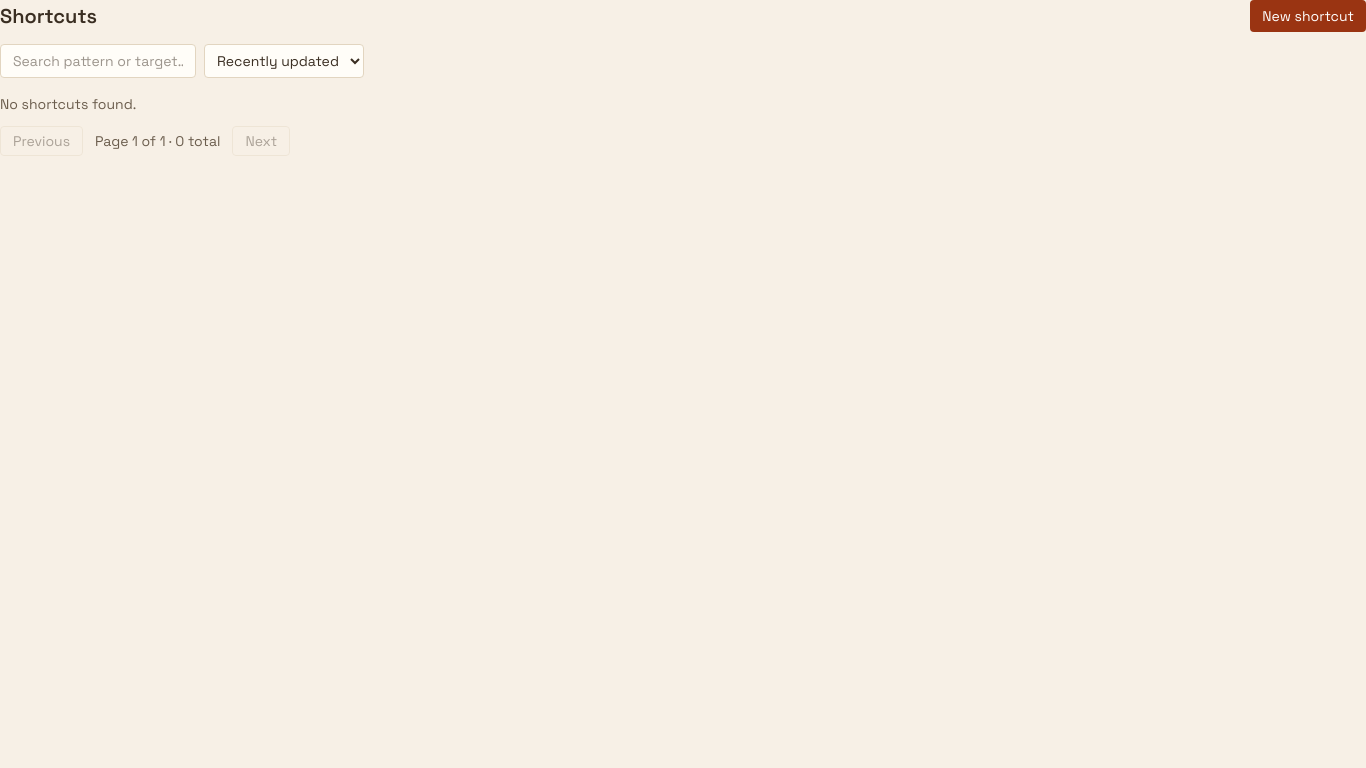
Test: ShortcutsPage › creates a shortcut through the drawer
Check: the text "No shortcuts found." is shown, box [0,95,136,113]
Click the button "New shortcut" at x=1308, y=16, box [1250,0,1365,32]
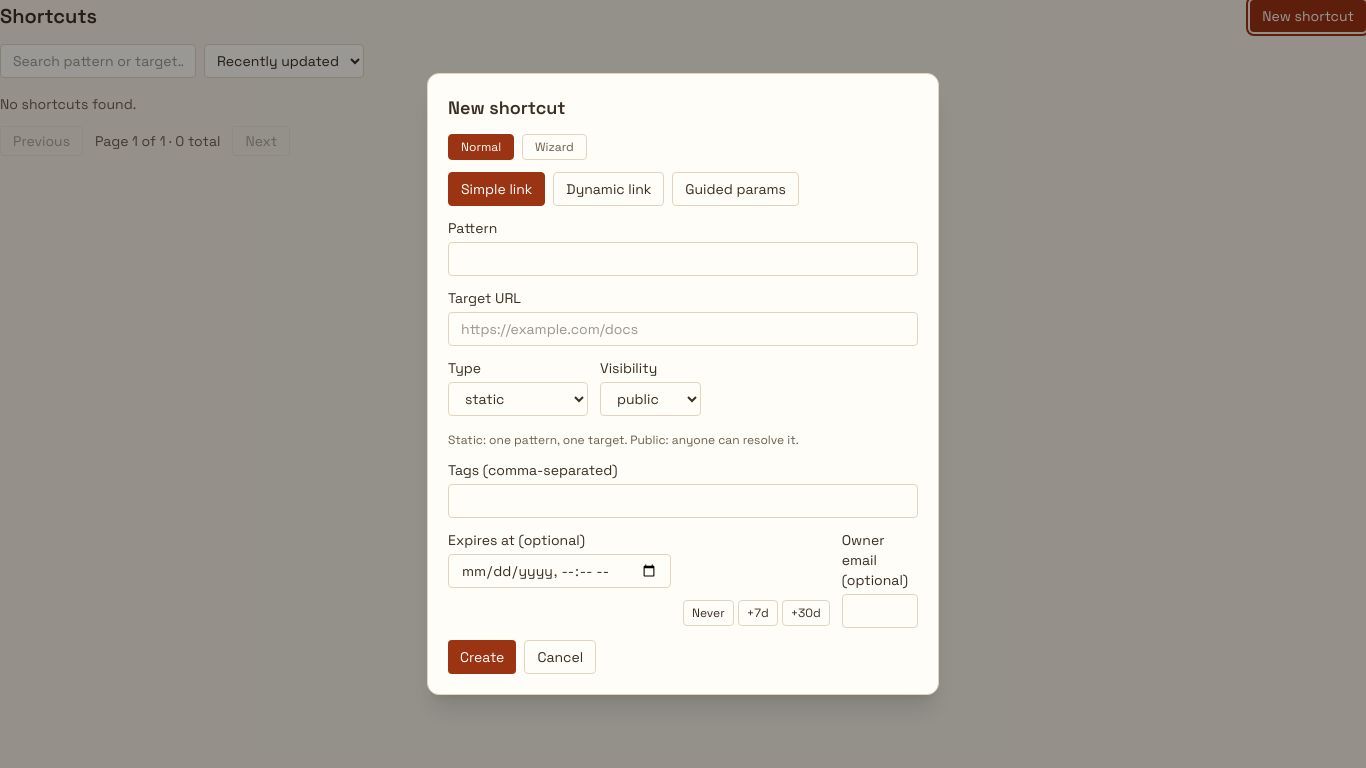
Type "brand-new" into the field labelled "Pattern" at x=683, y=259, box [448,242,918,276]
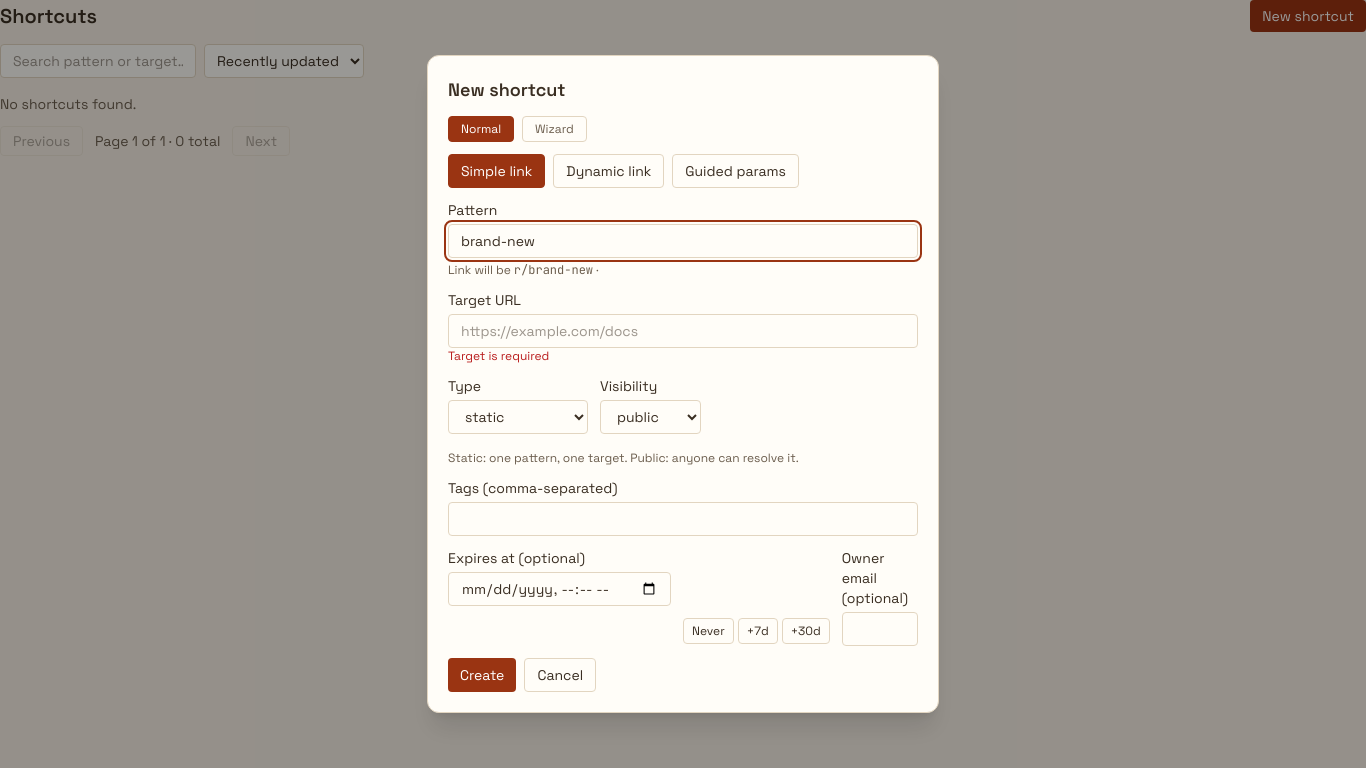
Type "https://x.example/new" into the field labelled "Target URL Target is required" at x=683, y=331, box [448,314,918,348]
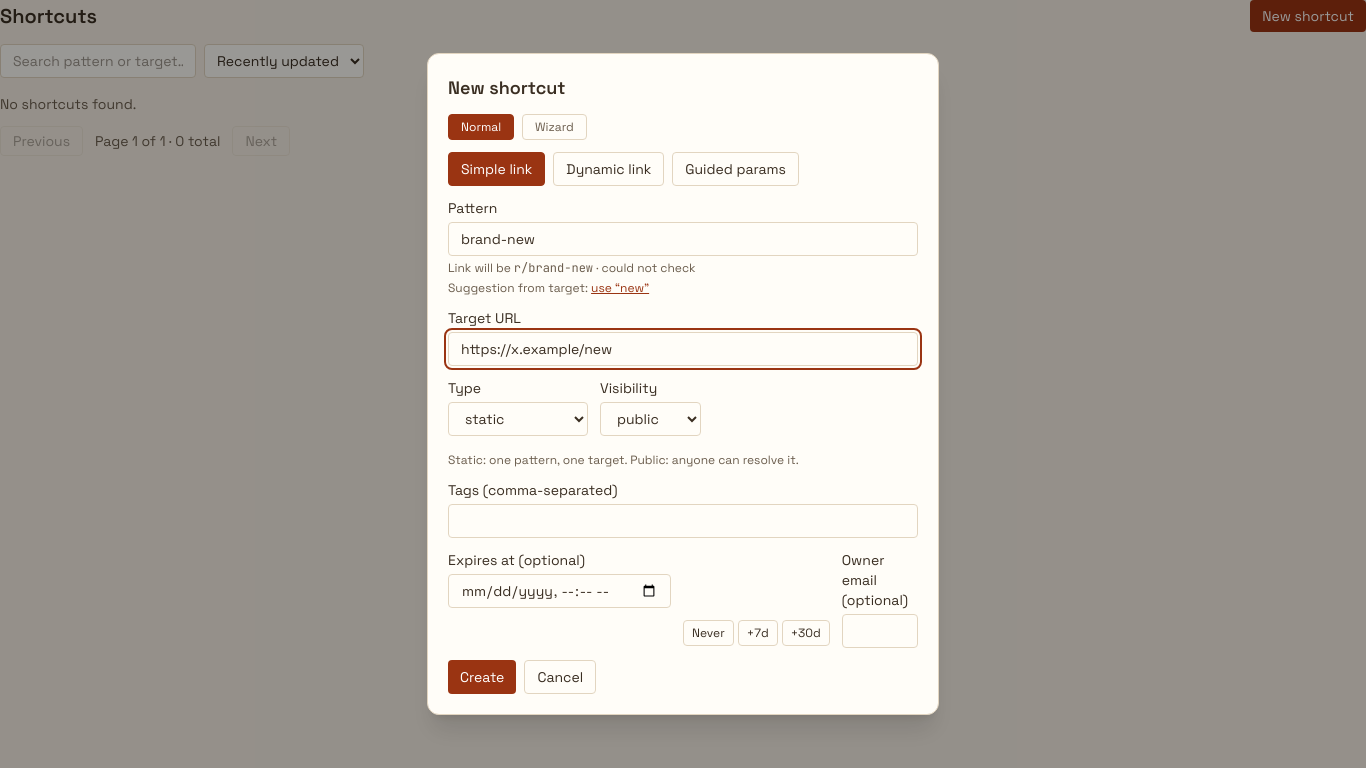
Click the button "Create" at x=482, y=677, box [448,660,516,694]
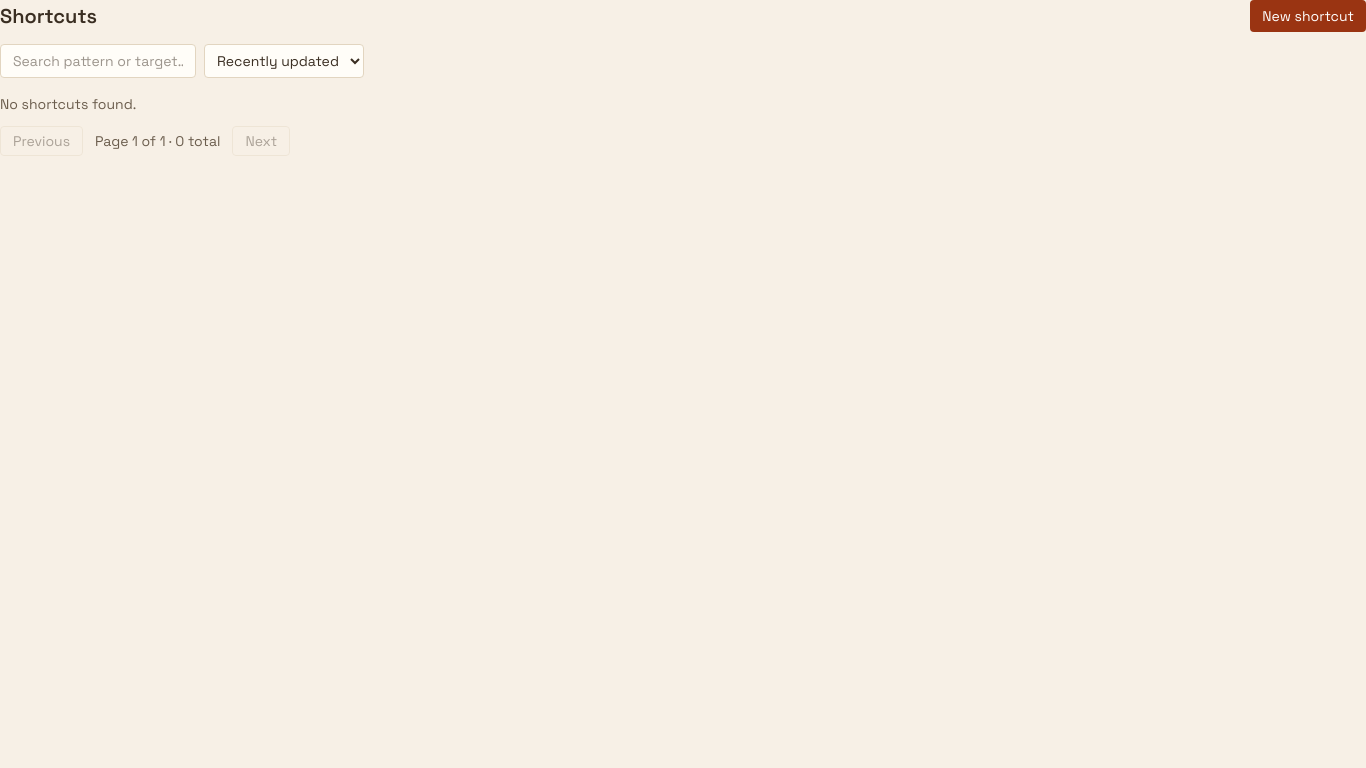
Check: the dialog is gone
